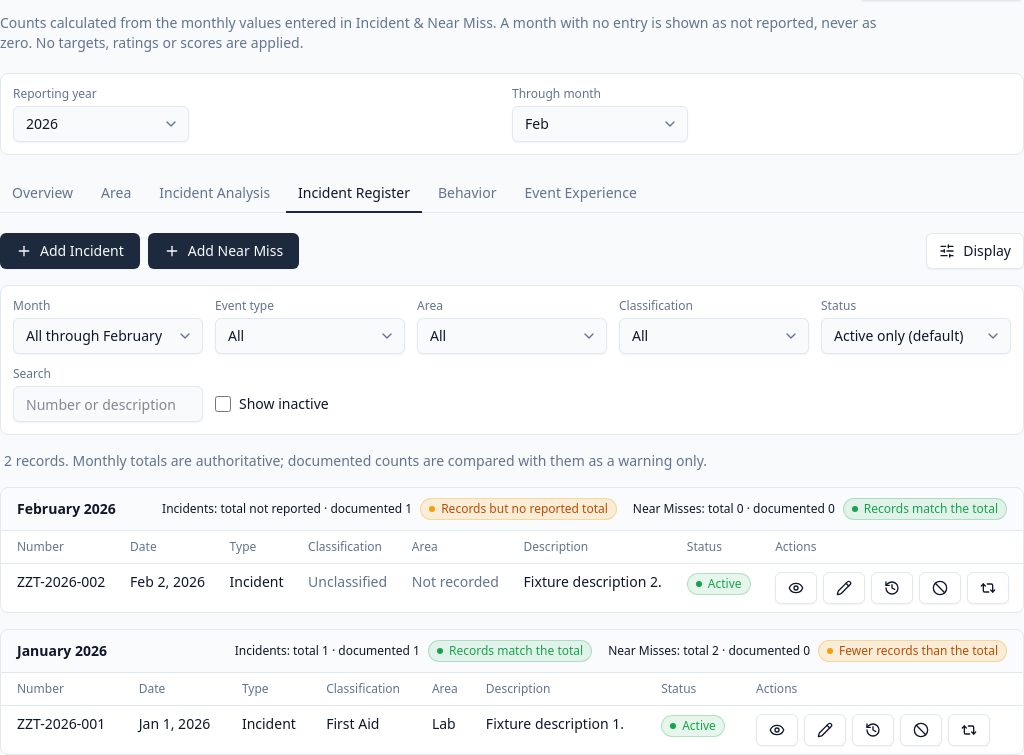
Test: Incident Register › opens Void as a reasoned action, never a deletion
The width and height of the screenshot is (1024, 755).
(page scrolled)
Click the button named "Void ZZT-2026-001" at (921, 730), box [900,714,942,746]
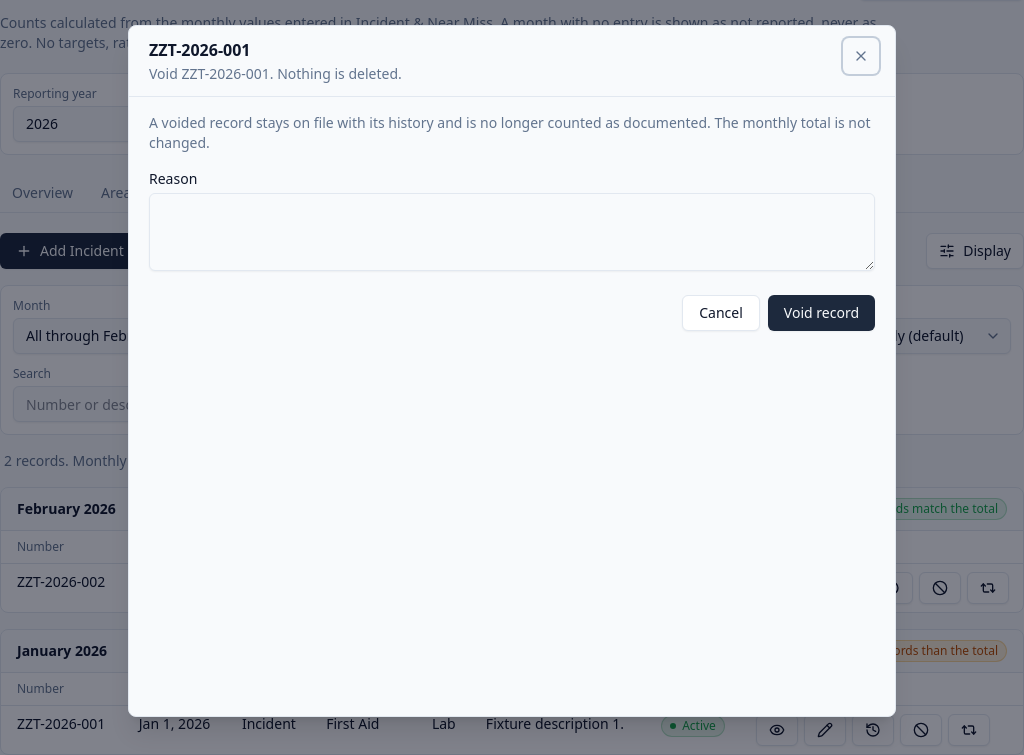
Check: the heading "ZZT-2026-001" is shown, box [149,39,250,61]
Check: the dialog shows "A voided record stays on file with its history", box [149,113,870,152]
Check: the dialog shows "Reason", box [149,169,197,188]
